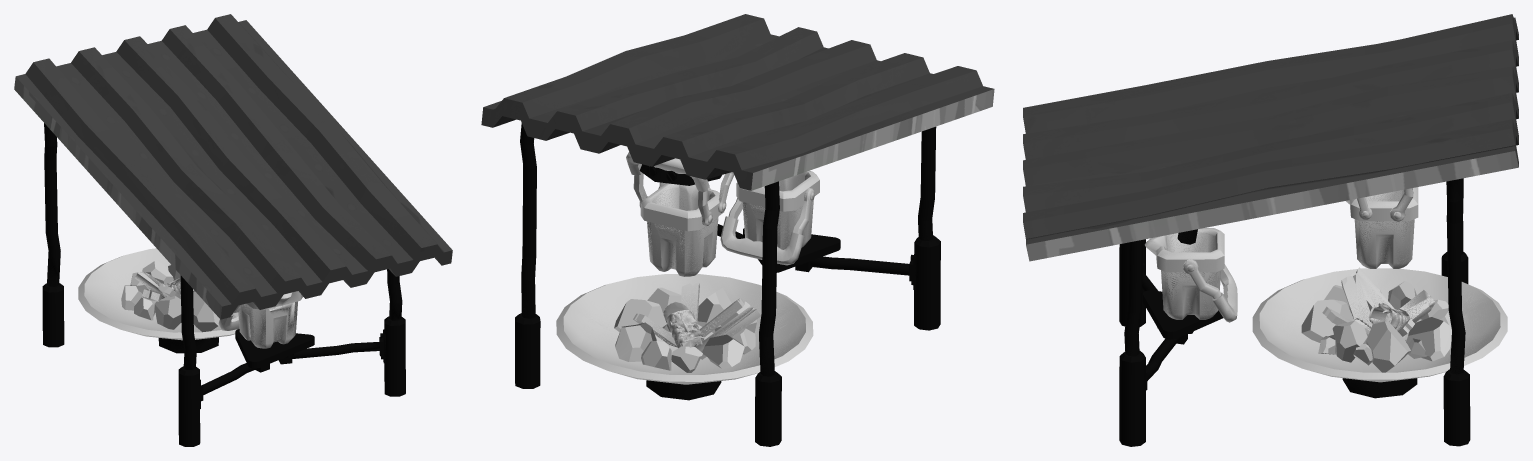
File: WaterPurifier.fbx
The picture shows the model from 3 angles, left to right: view 1: azimuth 30°, elevation 25°; view 2: azimuth 150°, elevation 25°; view 3: azimuth 270°, elevation 25°; orthographic projection. The views are drawn at different scales.
Visible parts, largest first — view 1: workbench; view 2: workbench; view 3: workbench.
Part boxes in pixels (x1=…): workbench: x1=14, y1=14, x2=452, y2=446; workbench: x1=481, y1=14, x2=994, y2=446; workbench: x1=1023, y1=14, x2=1518, y2=446.
Size of the model in its own units: 7.89 by 8.57 by 12.4.
